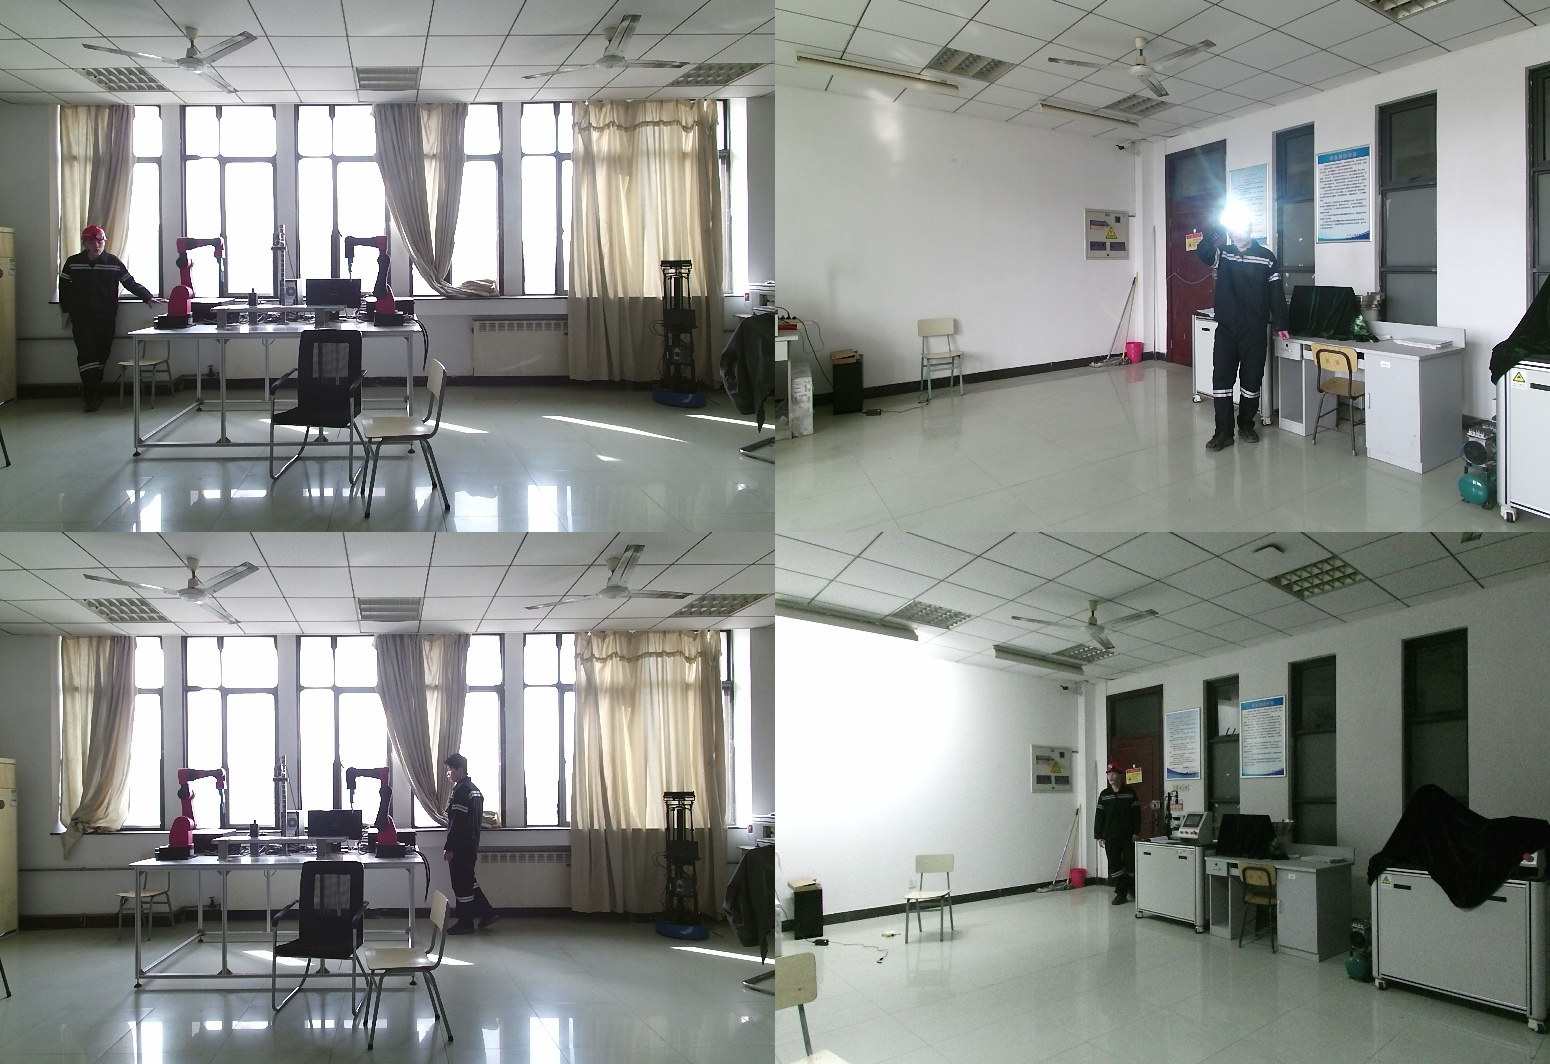person: (1199, 210, 1298, 448), (55, 226, 159, 411), (445, 752, 503, 941), (1091, 761, 1150, 911)
